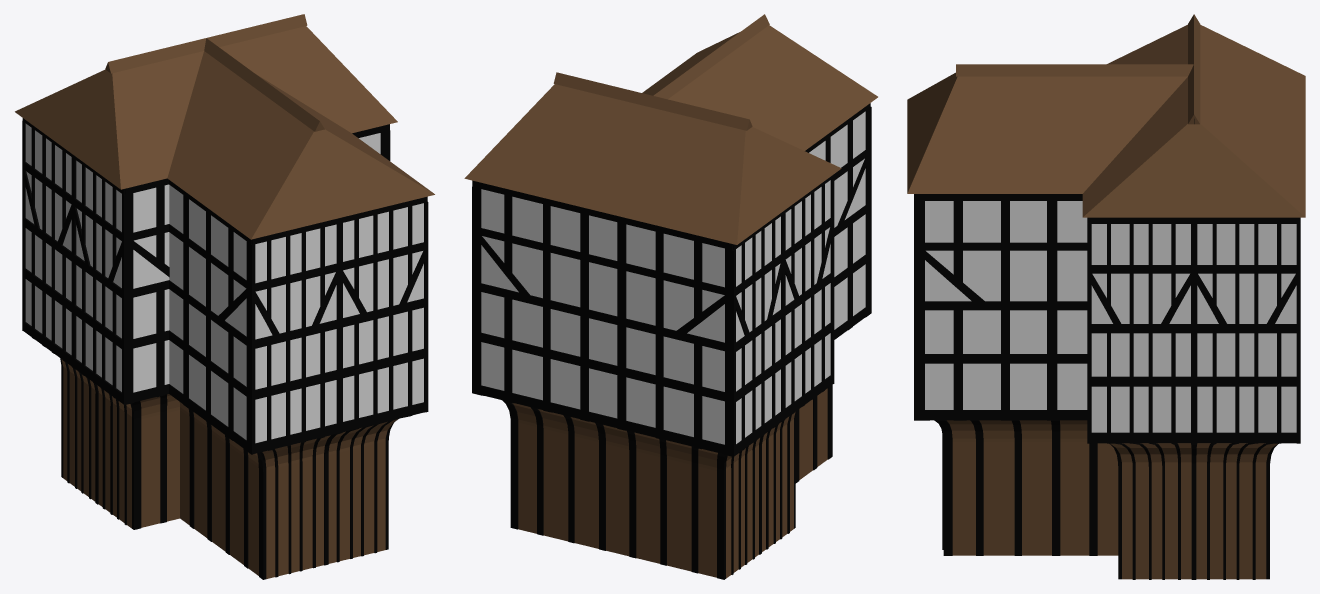
File: 02_res_big_var3.fbx
3 renders of one model, left to right at view 1: azimuth 30°, elevation 25°; view 2: azimuth 150°, elevation 25°; view 3: azimuth 270°, elevation 25°, orthographic. The views are drawn at different scales.
Visible parts, largest first — view 1: Cube.003; view 2: Cube.003; view 3: Cube.003.
Boxes of the visible parts, x1=… form: Cube.003: x1=15, y1=14, x2=434, y2=579; Cube.003: x1=464, y1=14, x2=877, y2=579; Cube.003: x1=907, y1=14, x2=1305, y2=579.
Bounding box in the file's own units: 75.89 × 115 × 90.2.
